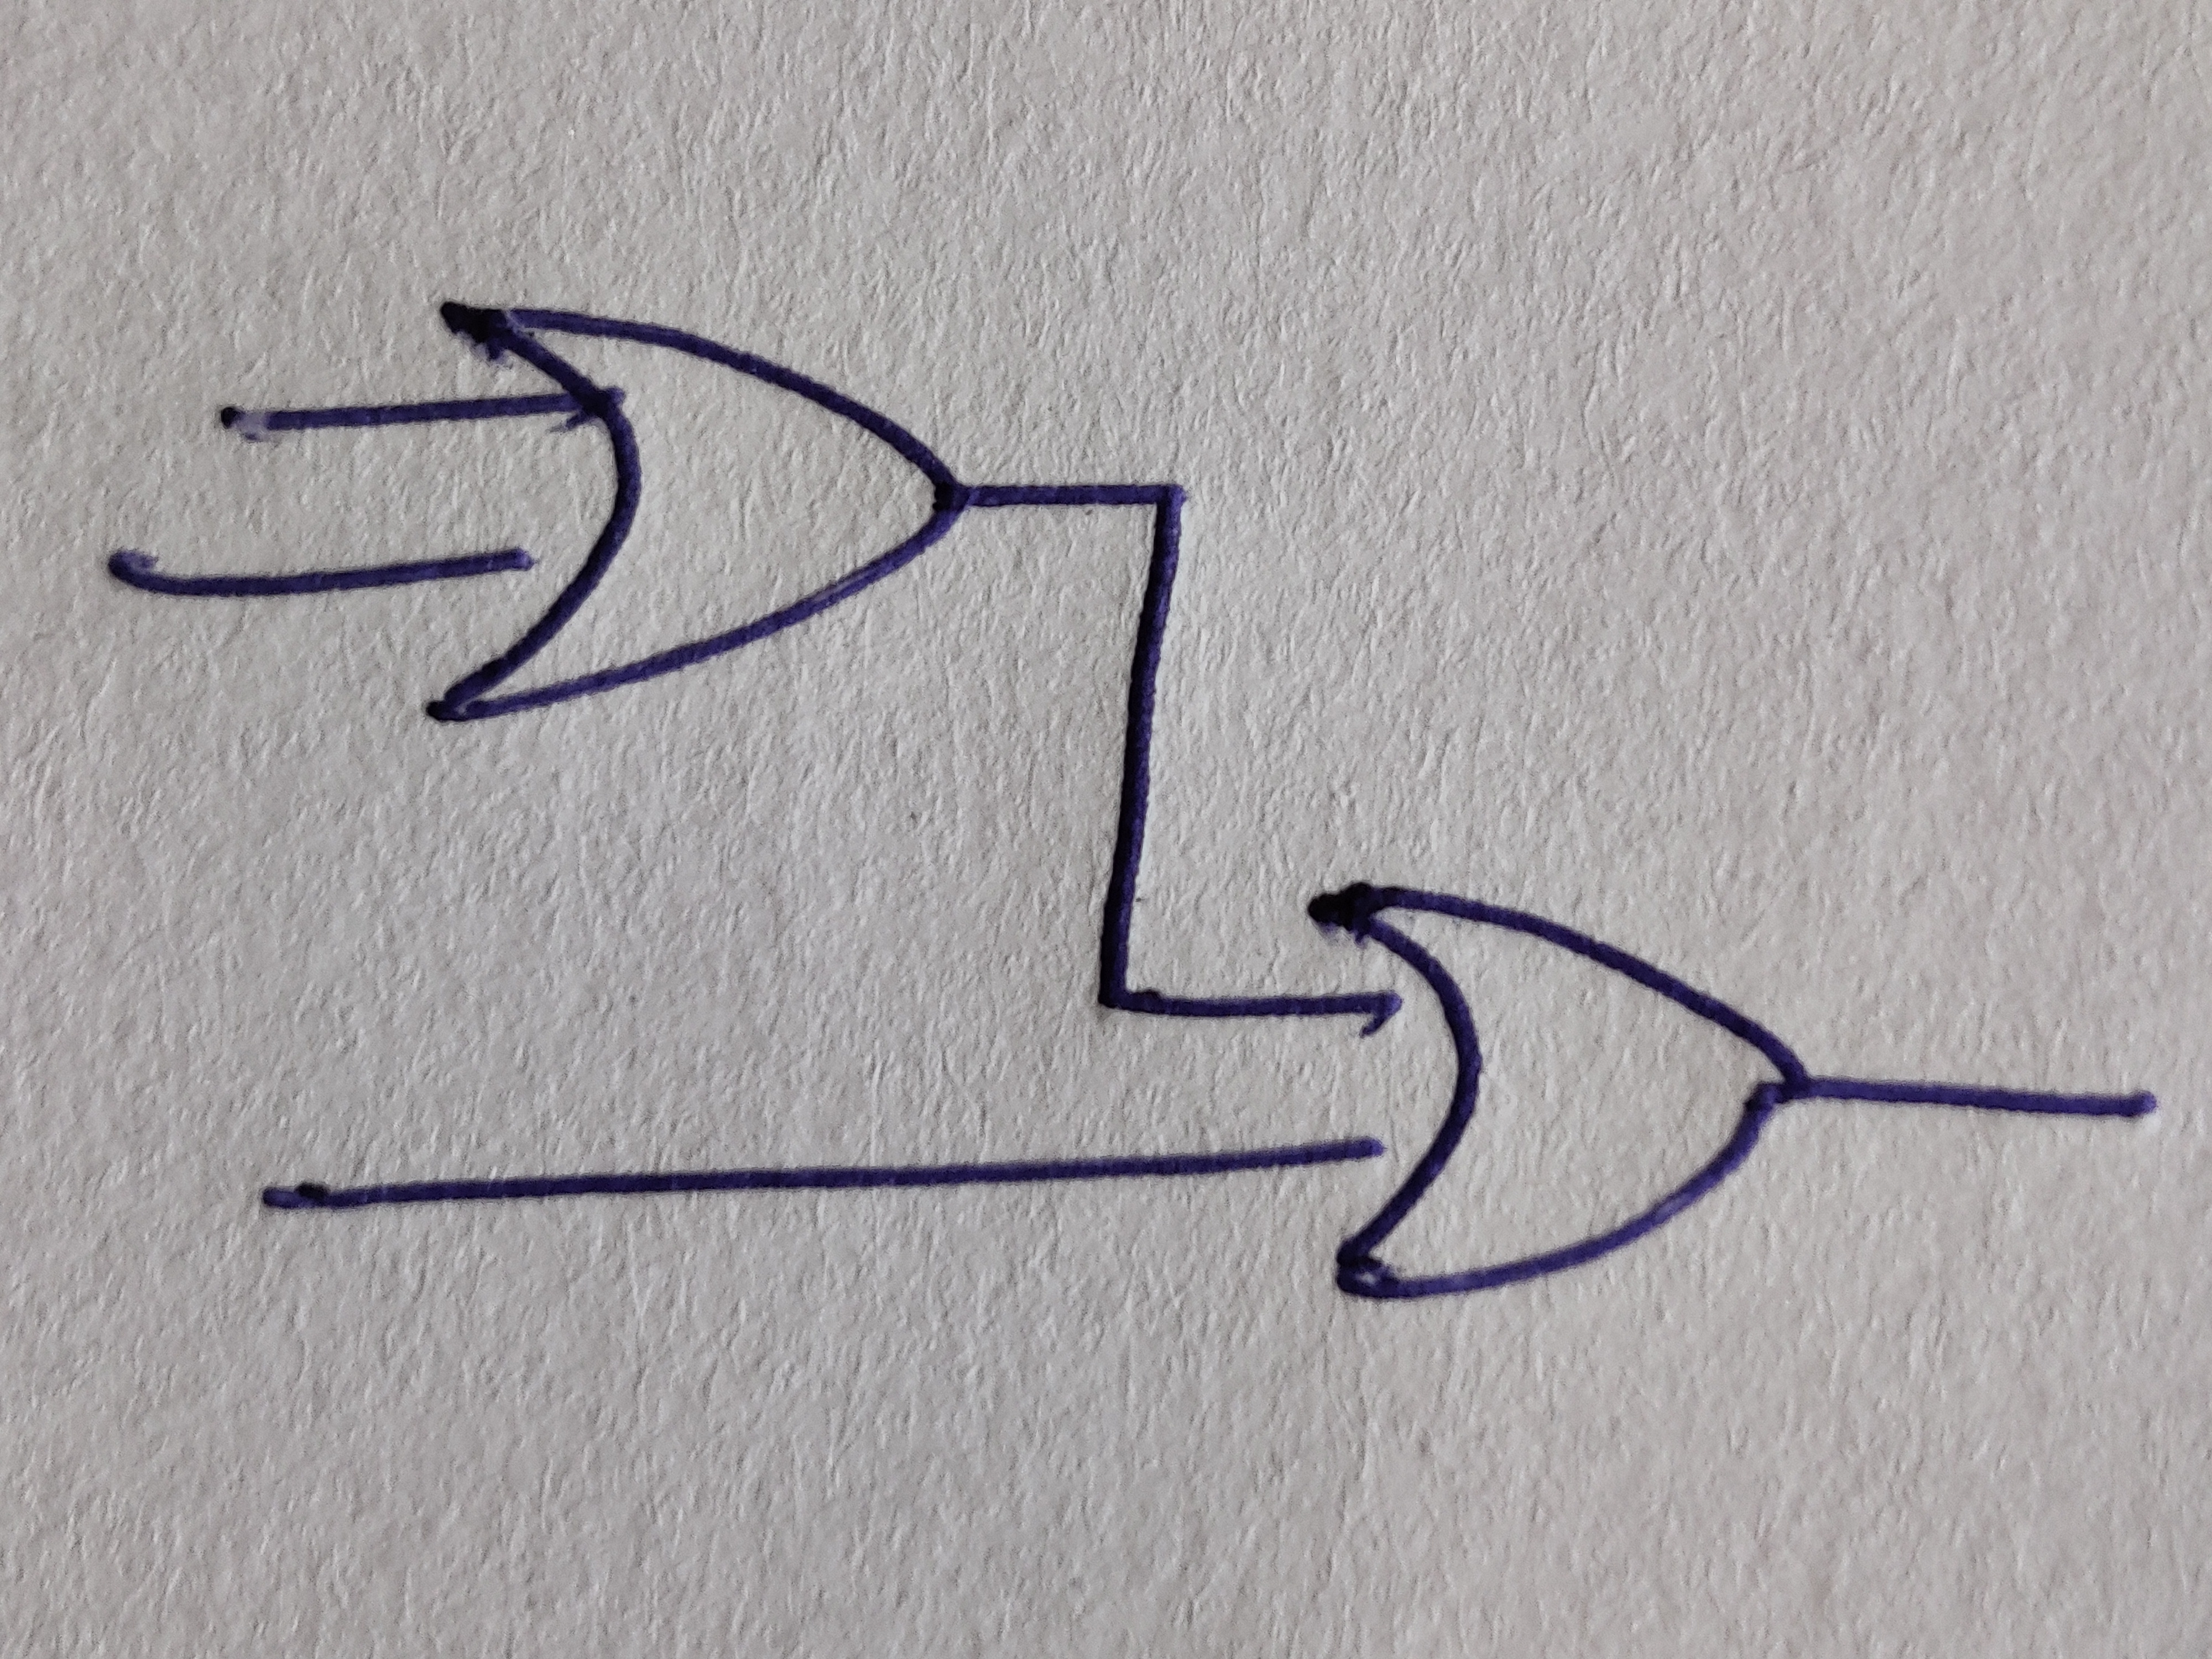or: (425, 298, 965, 723), (1310, 882, 1808, 1297)
